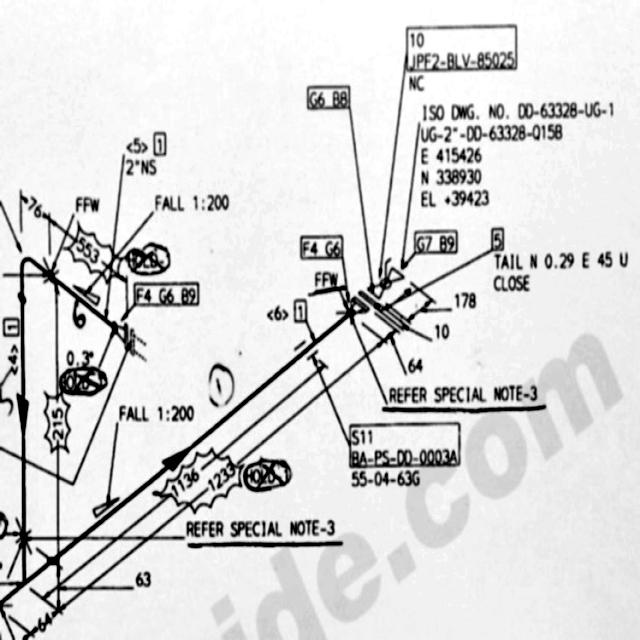Item number: (346, 418, 463, 493), (405, 18, 518, 76), (131, 279, 201, 308), (297, 232, 345, 262), (304, 82, 351, 112), (413, 229, 458, 256), (489, 224, 505, 252), (293, 296, 308, 324), (152, 129, 167, 157), (3, 315, 20, 338)
Measrement: (61, 336, 391, 618), (60, 357, 334, 604), (49, 203, 128, 299), (51, 278, 65, 612), (400, 282, 480, 326), (59, 566, 154, 594), (385, 331, 431, 380), (14, 597, 59, 639), (19, 180, 51, 231), (5, 327, 23, 408), (400, 319, 453, 345)
Pipeline: (0, 247, 356, 620)
Symbol: (0, 523, 63, 619), (12, 247, 61, 304), (4, 380, 32, 440), (115, 316, 149, 364), (338, 286, 375, 321), (157, 442, 193, 477), (383, 261, 410, 288)
Weld number: (236, 457, 297, 496), (59, 366, 108, 399), (207, 358, 237, 409)
other: (416, 95, 573, 212), (490, 239, 634, 298), (345, 419, 464, 490), (382, 377, 541, 417), (183, 513, 341, 547), (118, 399, 198, 429), (152, 189, 231, 215), (72, 195, 100, 216)
